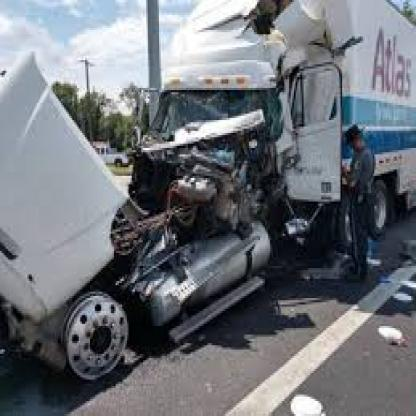accident: (17, 34, 349, 377)
